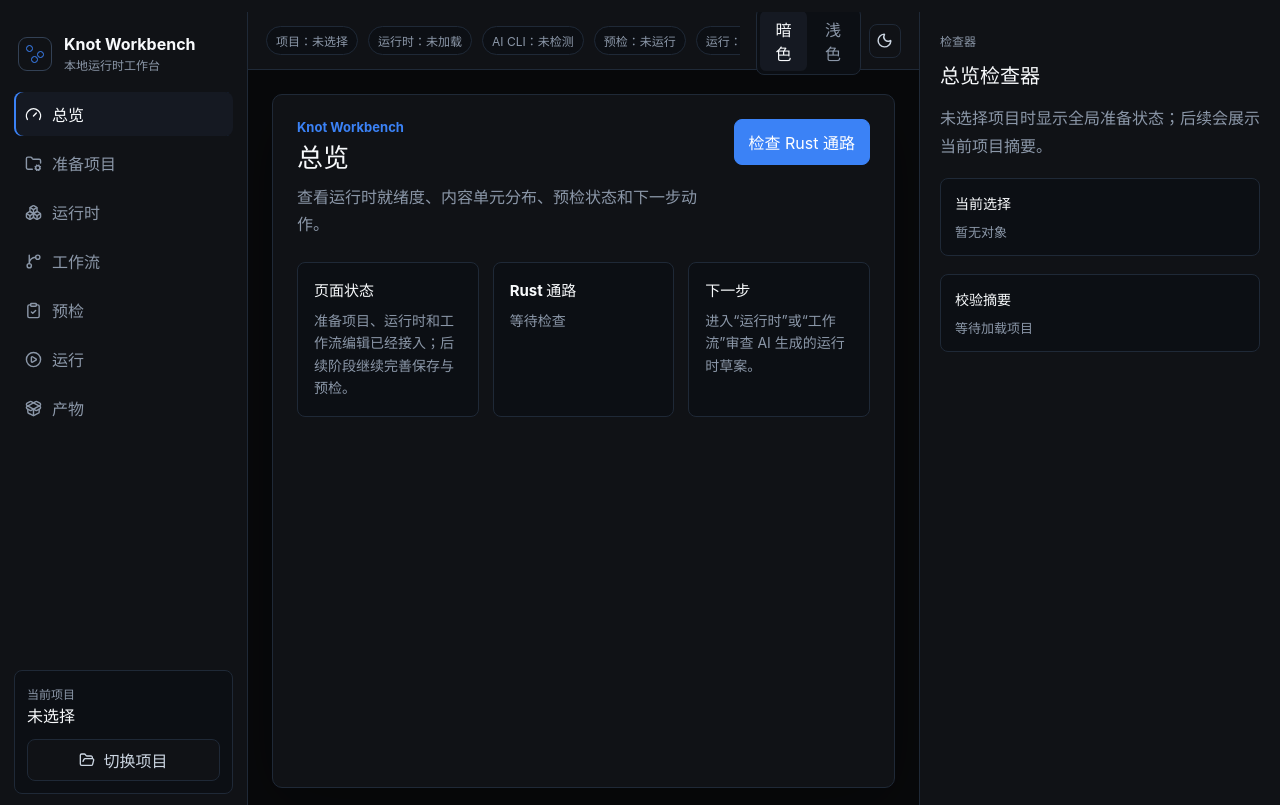
it: navigation › opens the prepare page from the sidebar footer button
Click the button "切换项目".
click(124, 760)  # box [27,739,220,781]
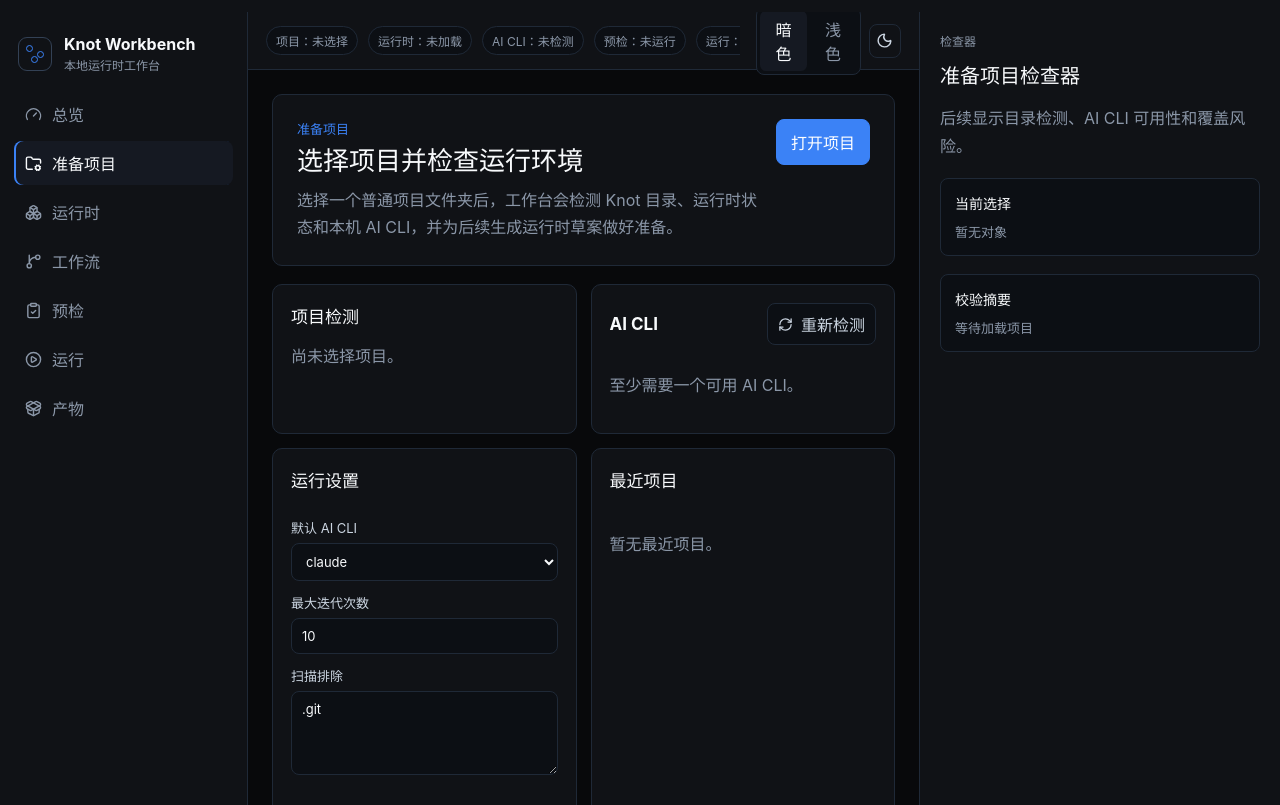
Result: the heading "选择项目并检查运行环境" is shown at [297,145,583,176]
